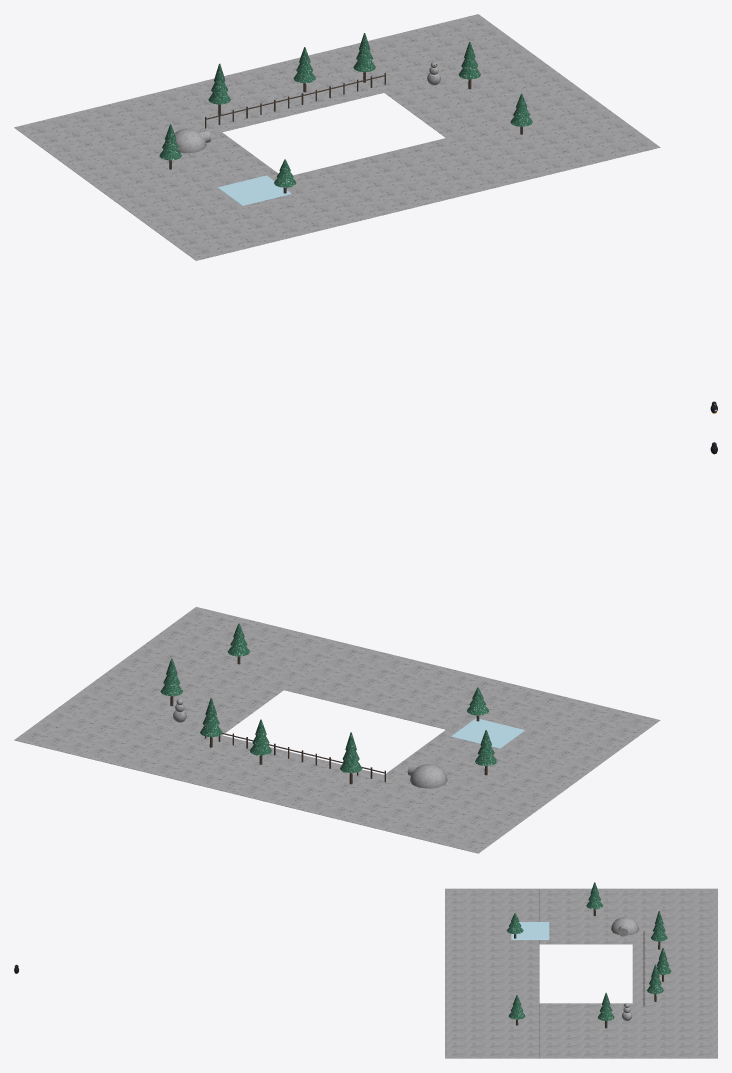
The model's file is es-luar.glb.
The picture shows the model from 3 angles, top to bottom: view 1: azimuth 30°, elevation 25°; view 2: azimuth 150°, elevation 25°; view 3: azimuth 270°, elevation 25°; orthographic projection. The views are drawn at different scales.
Parts seen in each view (by area): view 1: statis; view 2: statis; view 3: statis.
Boxes of the visible parts, x1,y1,x2,y2 form: statis: (14,14,660,260); statis: (14,607,660,853); statis: (445,882,717,1058).
Bounding box in the file's own units: 42.4 × 5.74 × 74.28.
Materials: 11 (5 with a texture image).
